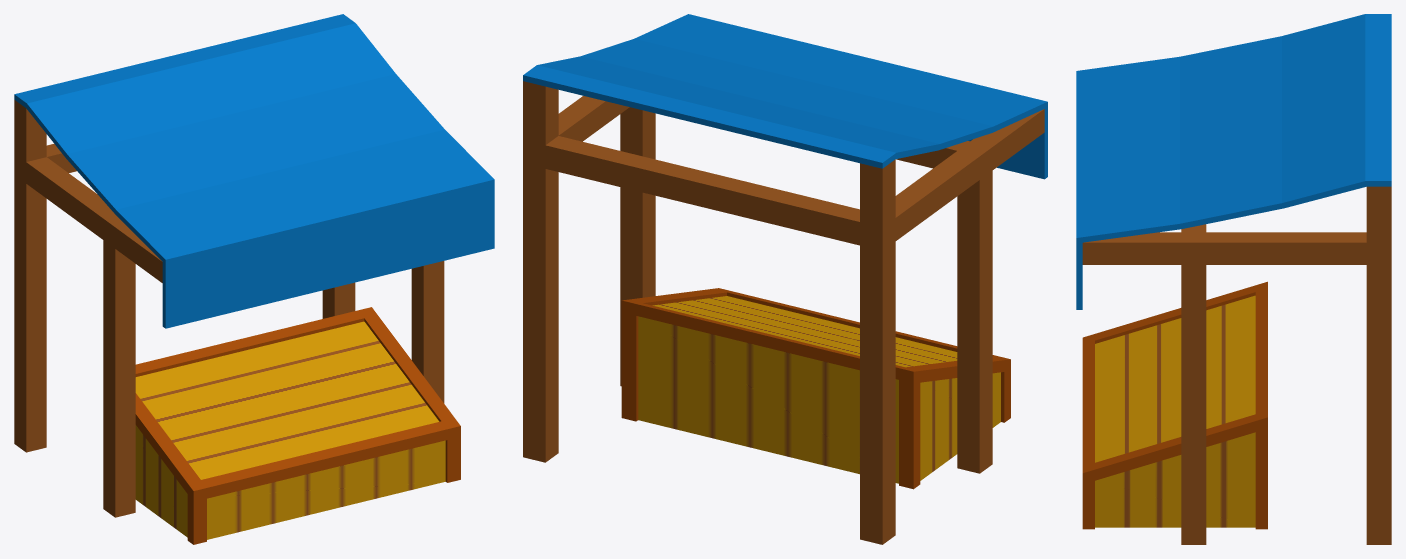
File: MarketStand_02.fbx
3 renders of one model, left to right at view 1: azimuth 30°, elevation 25°; view 2: azimuth 150°, elevation 25°; view 3: azimuth 270°, elevation 25°, orthographic. The views are drawn at different scales.
Parts seen in each view (by area): view 1: MarketStand_02; view 2: MarketStand_02; view 3: MarketStand_02.
Part boxes in pixels (box(x1,y1,x2,y2)): MarketStand_02: box(14, 14, 494, 544); MarketStand_02: box(523, 14, 1047, 544); MarketStand_02: box(1076, 14, 1391, 544).
Bounding box in the file's own units: 320 × 325 × 255.
1 material, 1 textured.
